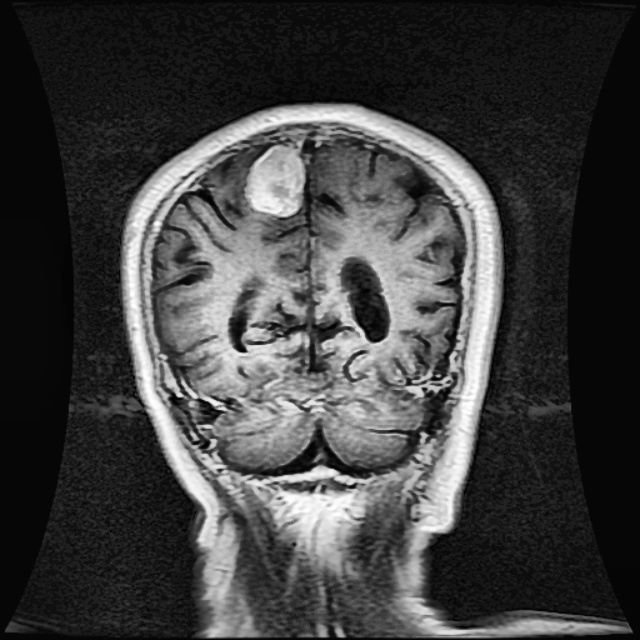Glioma: (247, 144, 305, 217)
